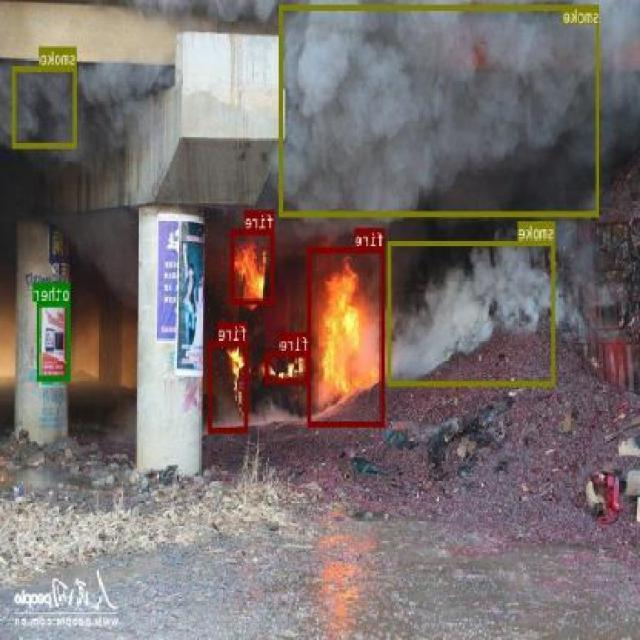Fire: (308, 247, 386, 426), (210, 341, 248, 432), (232, 228, 274, 304), (265, 351, 310, 384)
Smoke: (280, 2, 600, 216), (388, 240, 556, 386), (13, 65, 78, 147), (82, 66, 158, 113)
